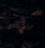three: (19, 20, 24, 27)
